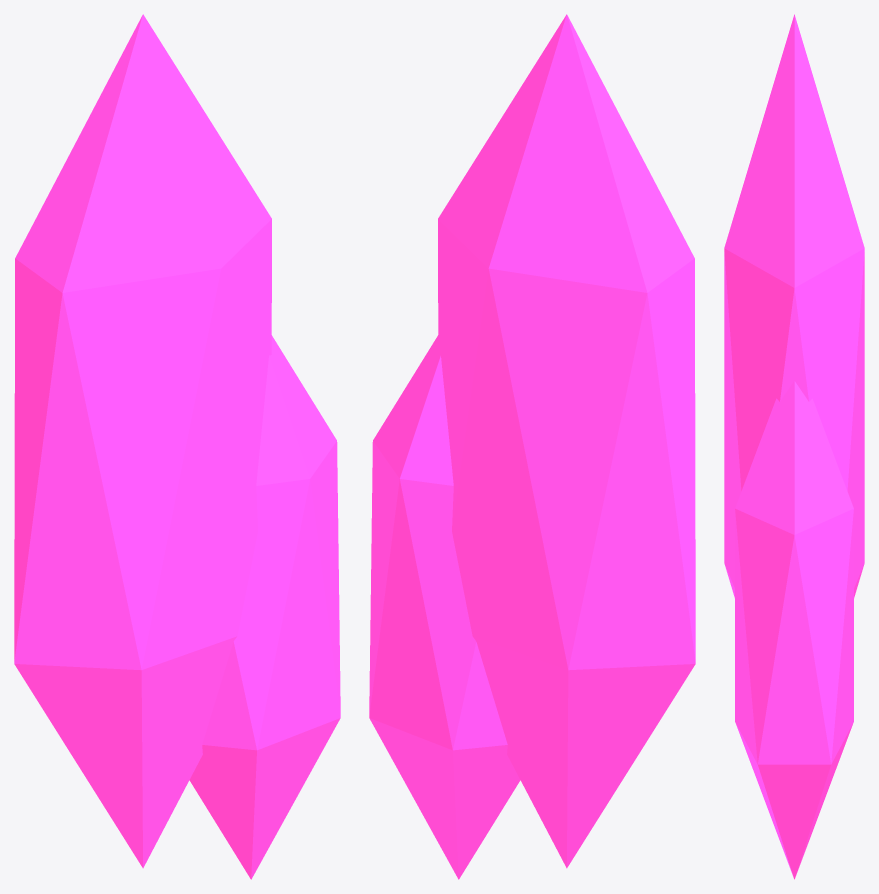
File: blood_droplet.glb
3 views of the same model, side by side, from view 1: azimuth 30°, elevation 25°; view 2: azimuth 150°, elevation 25°; view 3: azimuth 270°, elevation 25° (orthographic). The views are drawn at different scales.
Visible parts, largest first — view 1: blood_droplet; view 2: blood_droplet; view 3: blood_droplet.
Part boxes in pixels (<box>): blood_droplet: <box>14,14,340,879</box>; blood_droplet: <box>369,14,695,879</box>; blood_droplet: <box>724,14,864,879</box>.
Size of the model in its own units: 0.2689 by 0.71 by 0.1106.
